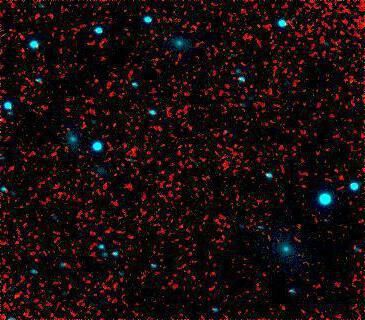star: (82, 65, 112, 95)
